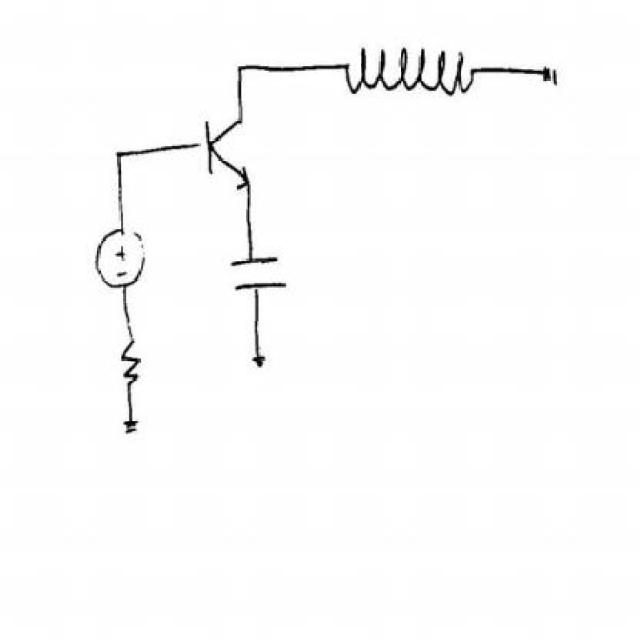capacitor: (224, 255, 294, 298)
ground: (116, 412, 146, 441), (538, 62, 564, 94), (247, 352, 275, 370)
inductor: (345, 34, 477, 99)
resistor: (105, 334, 154, 386)
transistor: (189, 114, 258, 194)
voltage_source: (94, 223, 148, 291)
